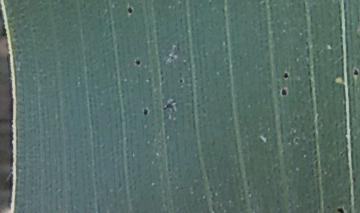tarspot: (160, 97, 178, 114), (278, 84, 291, 100), (124, 4, 136, 17), (279, 69, 291, 81), (332, 204, 348, 213), (140, 104, 150, 118), (132, 56, 143, 68), (176, 75, 186, 87), (351, 67, 360, 80)
